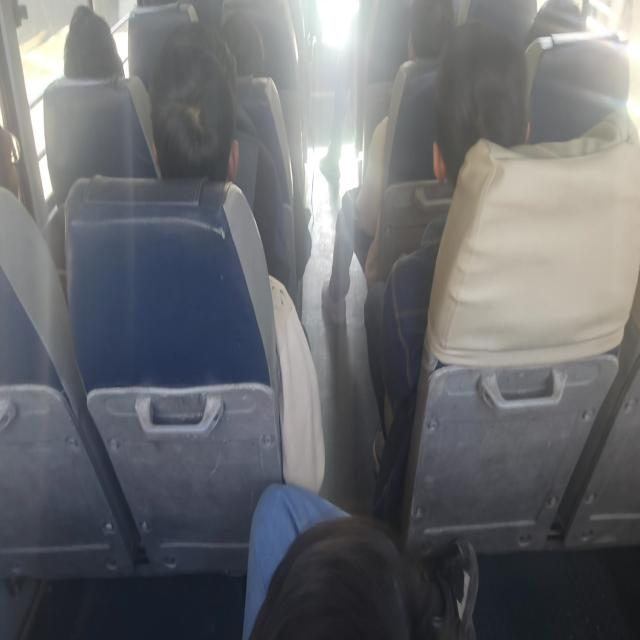person: (147, 21, 326, 493), (363, 19, 530, 514), (321, 0, 455, 324), (242, 482, 479, 638), (42, 4, 157, 205), (148, 21, 240, 183), (62, 4, 125, 80)
